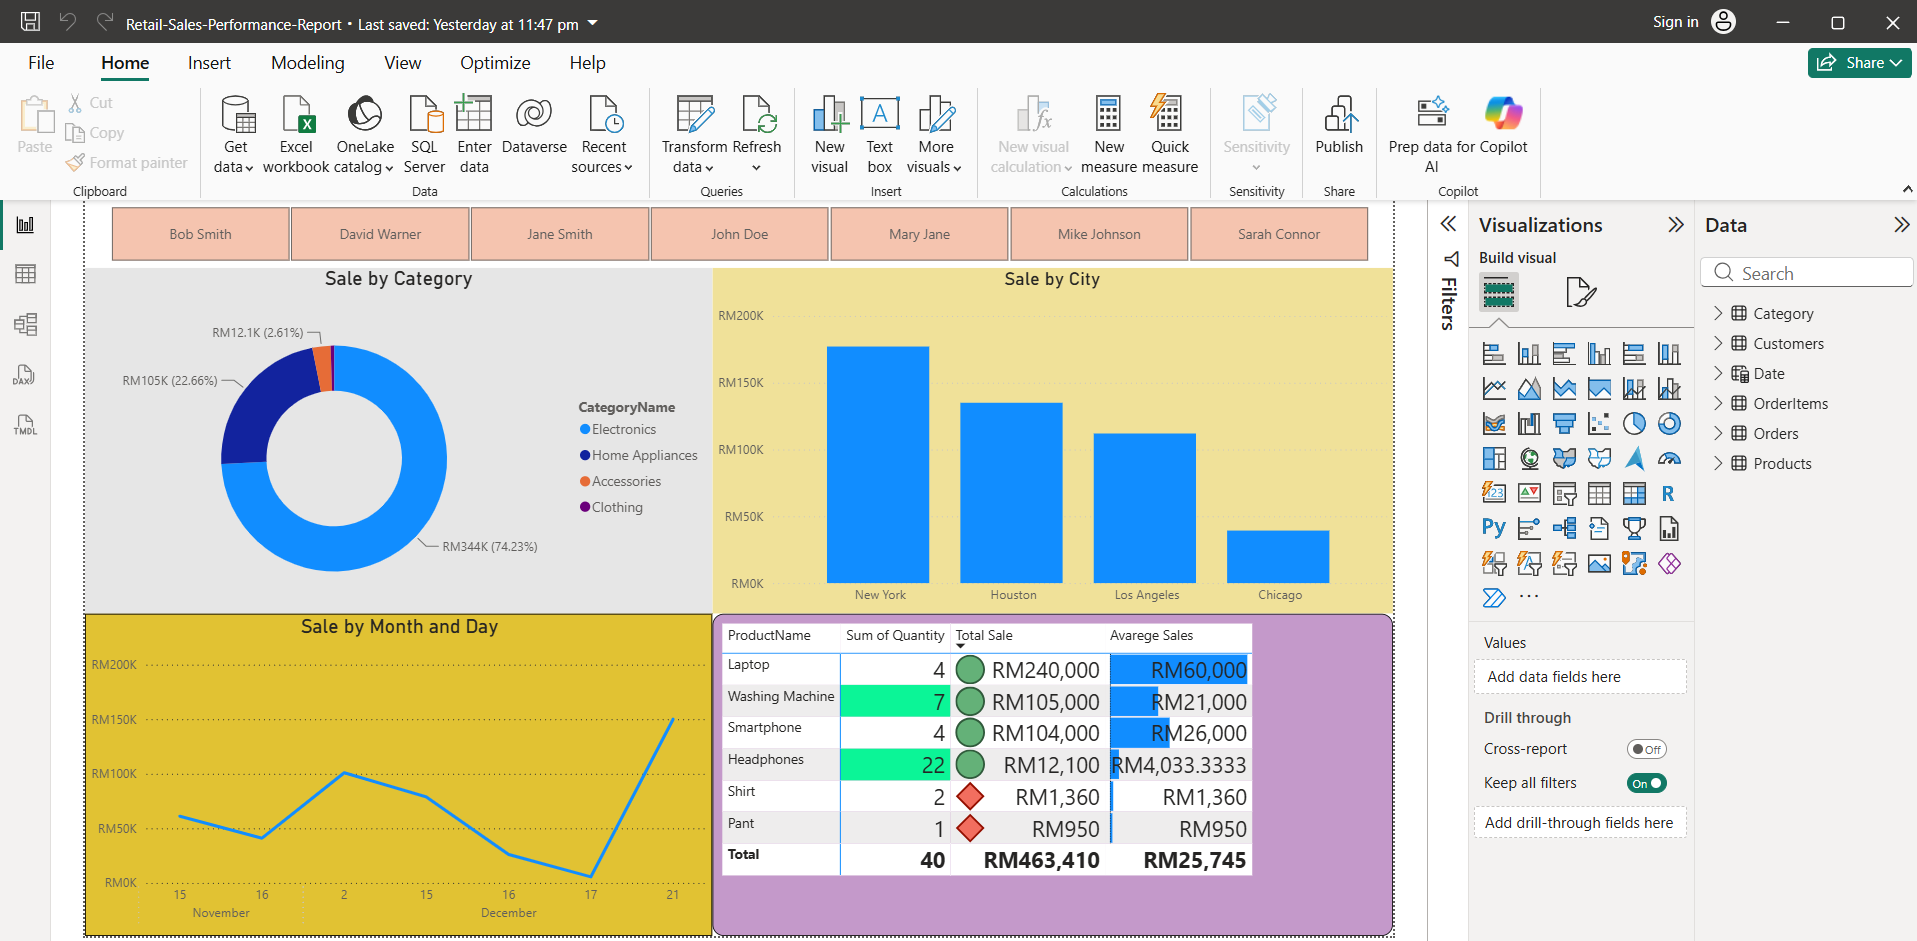

The page's visual inventory and layout, read from the dashboard file:
{"tool":"powerbi","page":{"name":"Page 2","canvas":[1280,720],"ordinal":0},"visuals":[{"type":"clusteredColumnChart","title":" Sale by City","fields":{"Category":["Customers.City"],"Y":["OrderItems.Total Sale"]},"box":[613.9,66,665.2,338.7],"z":0},{"type":"donutChart","title":" Sale by Category","fields":{"Category":["Category.CategoryName"],"Y":["OrderItems.Total Sale"]},"box":[0,66,613.9,338.7],"z":1000},{"type":"lineChart","title":" Sale by Month and Day","fields":{"Category":["Date.Date.Variation.Date Hierarchy.Month","Date.Date.Variation.Date Hierarchy.Day"],"Y":["OrderItems.Total Sale"]},"box":[0,404.8,613.9,315.5],"z":2000},{"type":"pivotTable","title":"Sale by Product","fields":{"Rows":["Products.ProductName"],"Values":["Sum(OrderItems.Quantity)","OrderItems.Total Sale","OrderItems.Avarege Sales"]},"box":[613.9,404.8,665.2,315.5],"z":3000},{"type":"slicer","fields":{"Values":["Customers.CustomerName"]},"box":[0,0,1279.1,66],"z":3001}]}

Visuals, with their boxes on the page's 1280x720 design canvas (x1, y1, x2, y2). These are canvas units, not pixel positions in the 1917x941 screenshot, which may show the page scaled, cropped or inside an application window:
" Sale by City" clusteredColumnChart: 614,66,1279,405
" Sale by Category" donutChart: 0,66,614,405
" Sale by Month and Day" lineChart: 0,405,614,720
"Sale by Product" pivotTable: 614,405,1279,720
slicer - Customers.CustomerName: 0,0,1279,66
